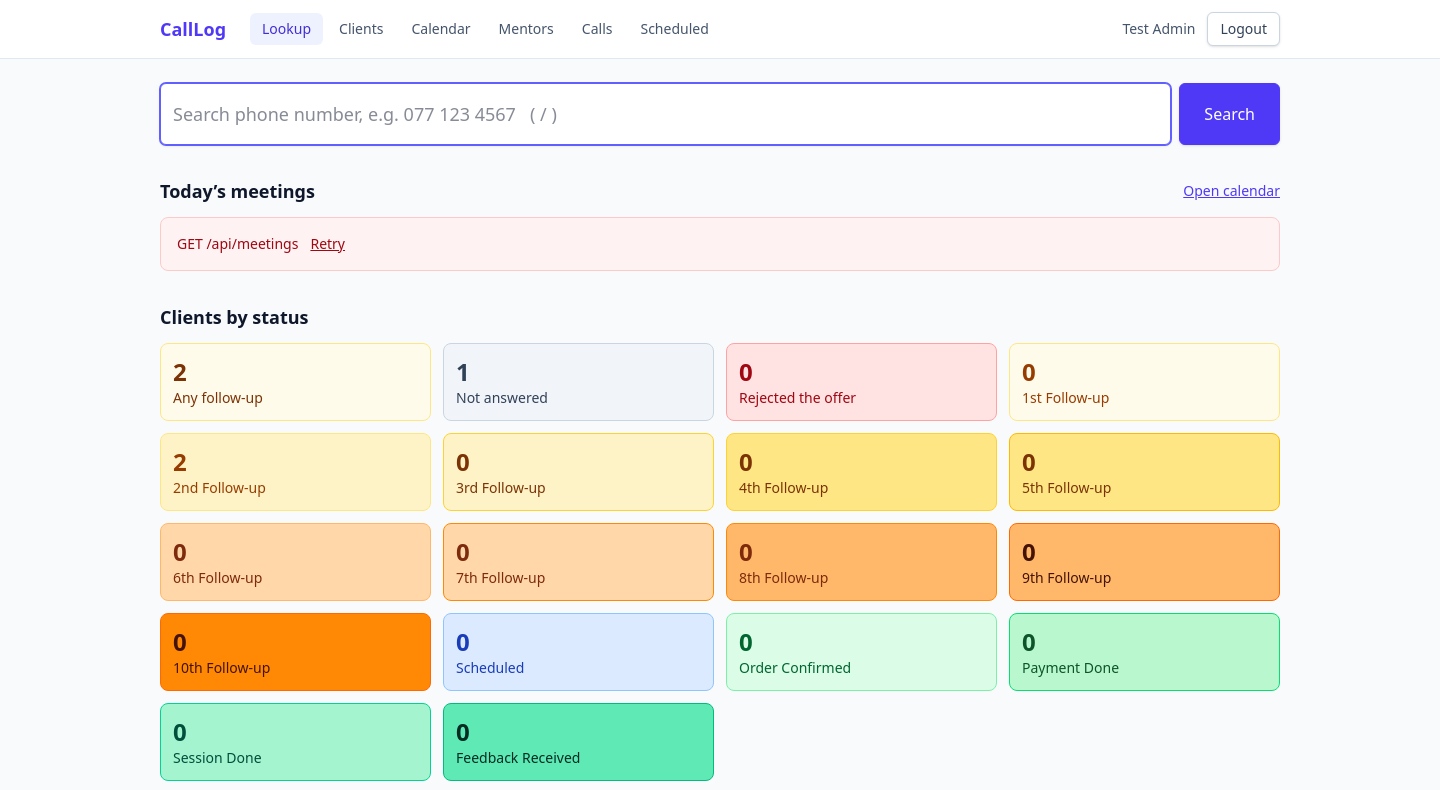
Scenario: lookup flow › new number: shows "New number" with the phone prefilled, requires a name, then opens the client
Type "077 123 4567" into the field labelled "phone number".
click(666, 114); type("077 123 4567")  # box [160,83,1171,145]
Then press Enter
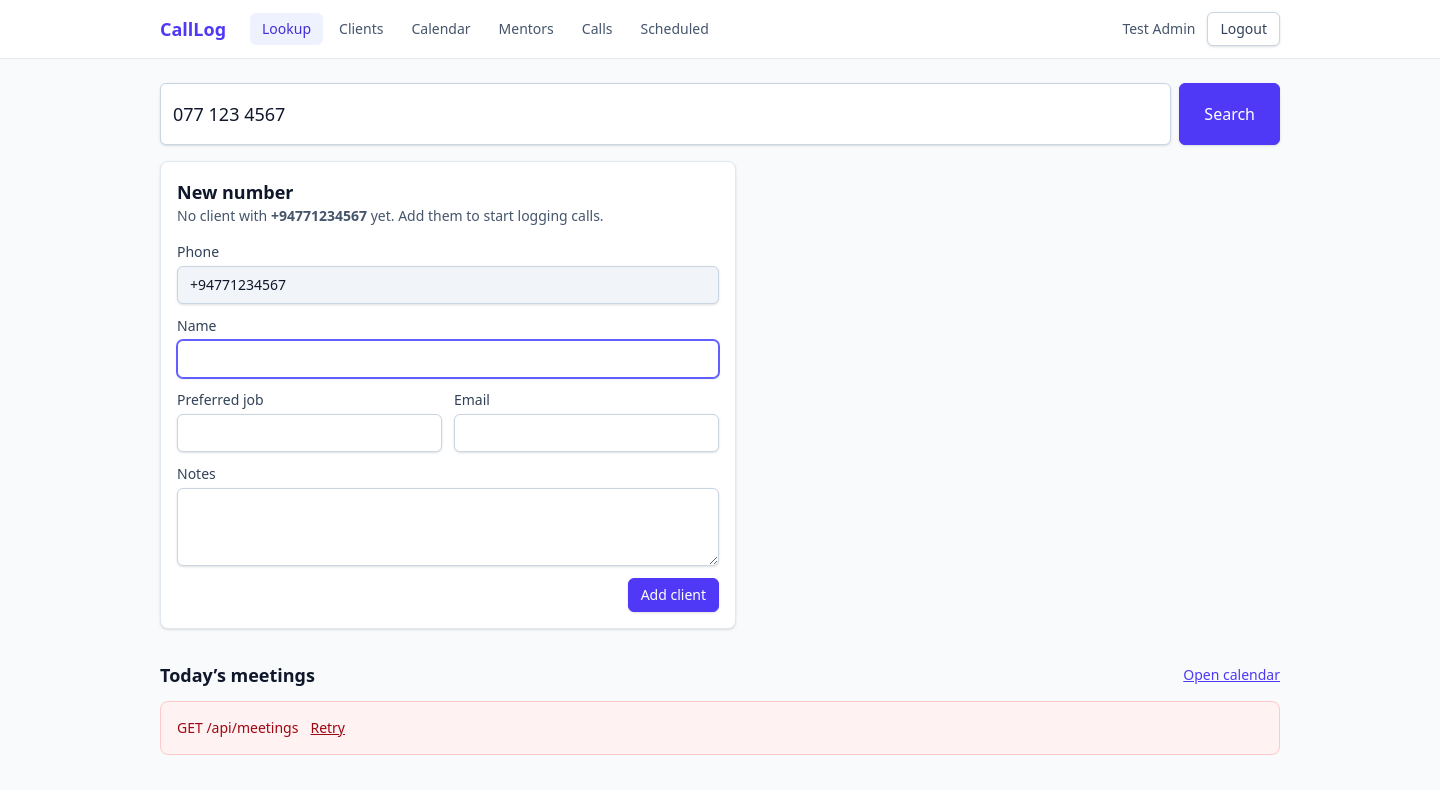
Expected: the heading "New number" is shown, [177,180,294,204]
Expected: the field labelled "Phone" holds "+94771234567", [177,266,719,304]
// name is required
Click the button "Add client".
click(673, 595)  # box [628,578,719,612]
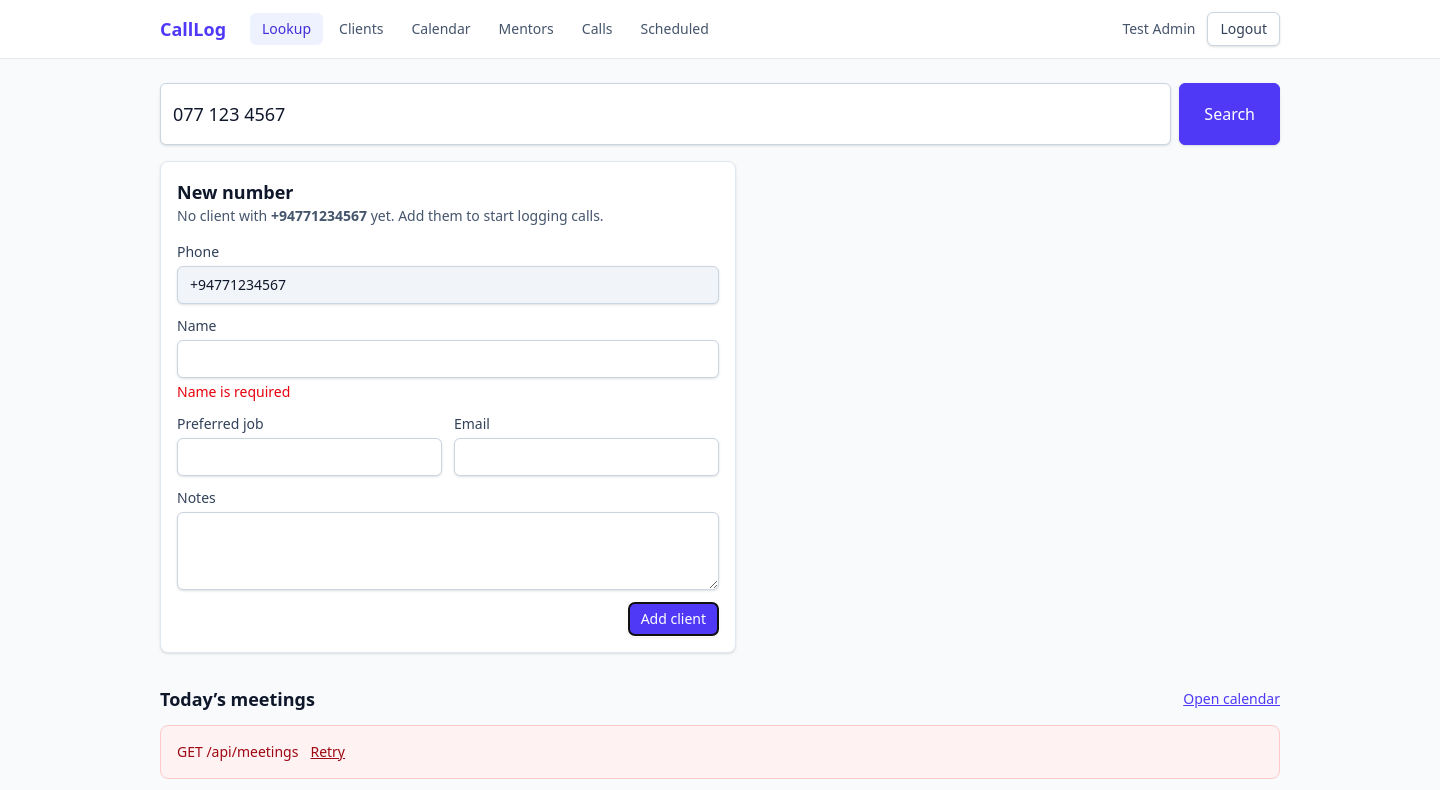
Expected: the text "Name is required" is shown, [177,382,290,401]
Type "Nimal Perera" into the field labelled "Name".
click(448, 359); type("Nimal Perera")  # box [177,340,719,378]
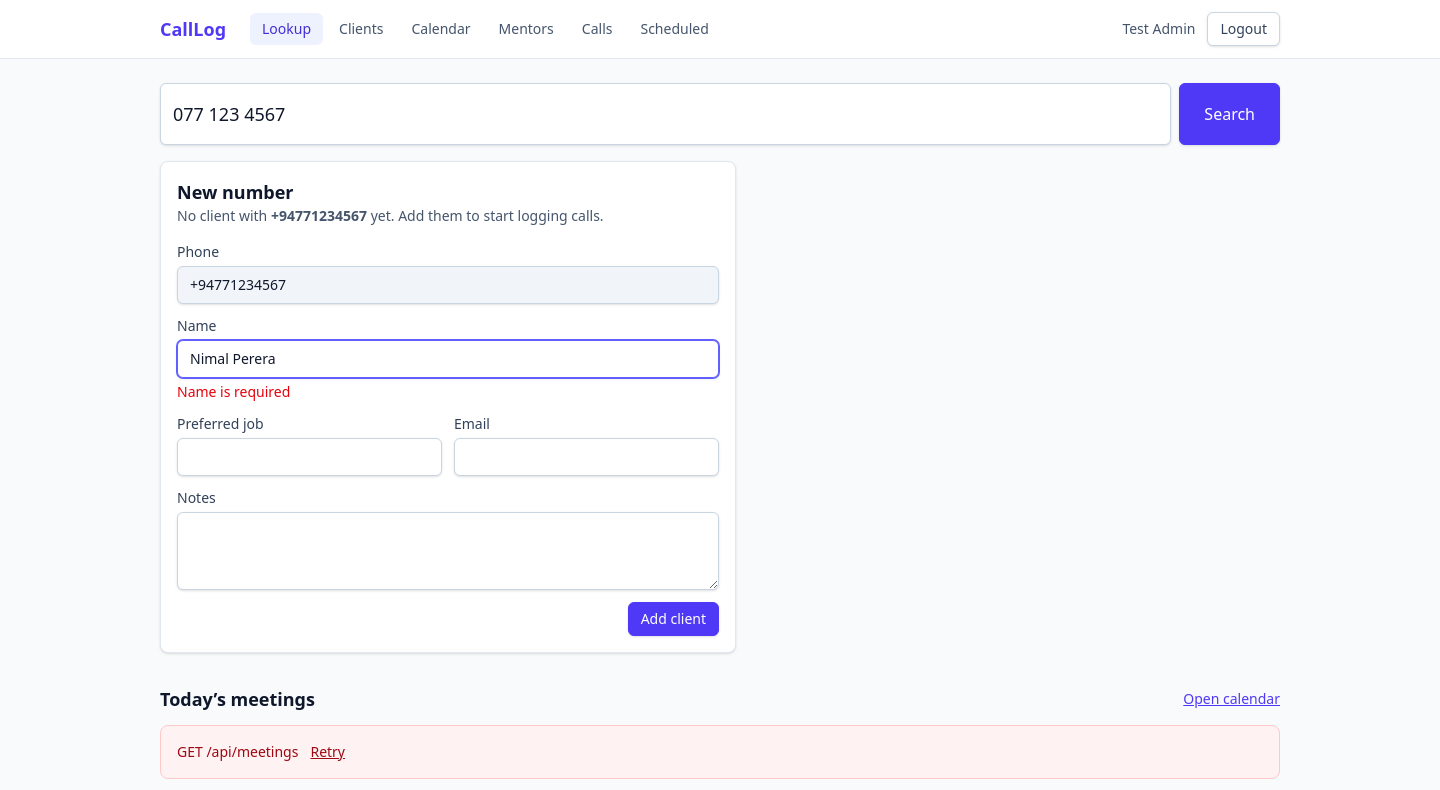
Click the button "Add client".
click(673, 619)  # box [628,602,719,636]
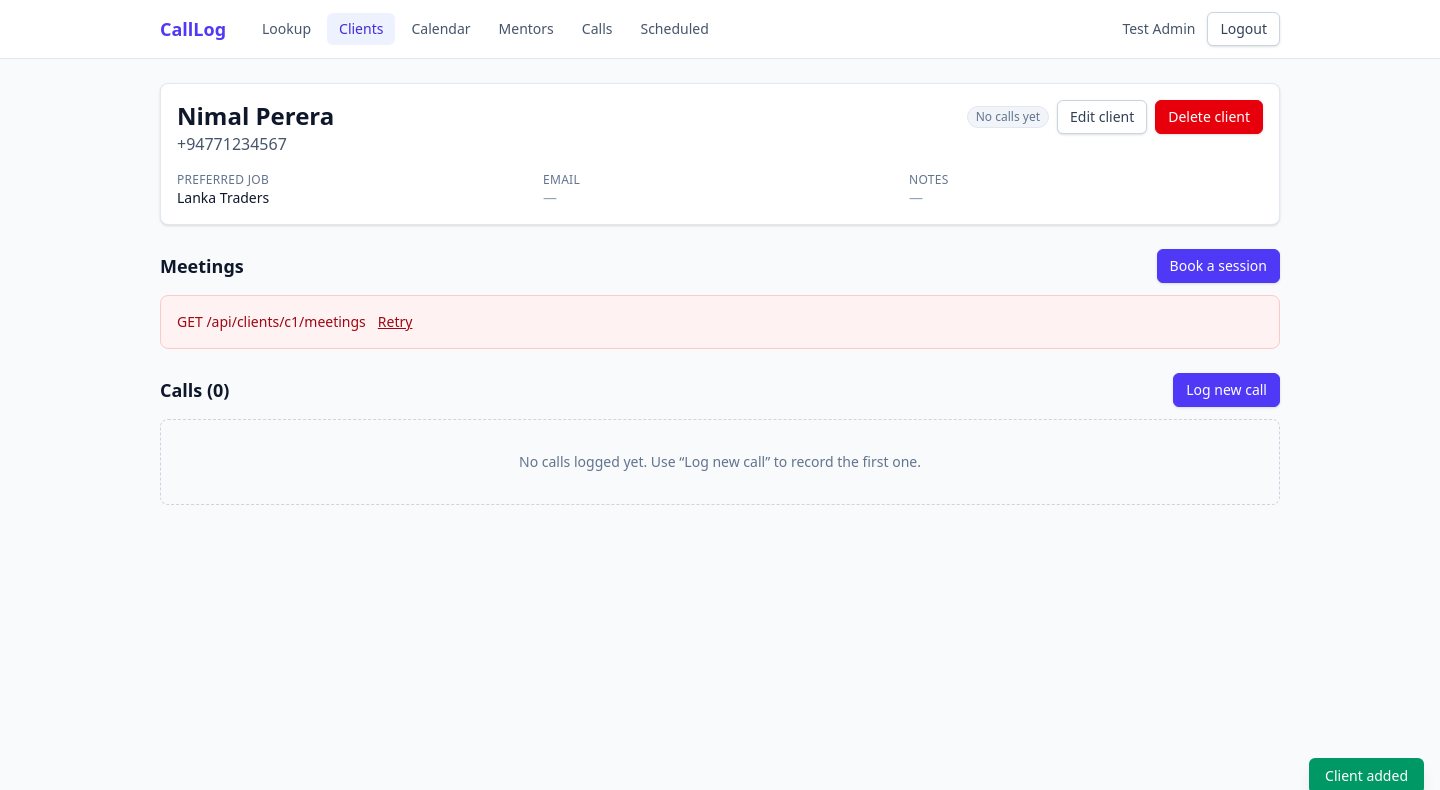
Expected: the heading "Nimal Perera" is shown, [177,100,334,132]
Expected: the text "No calls logged yet" is shown, [519,452,921,471]
